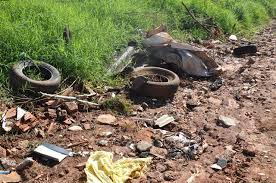tire: (9, 57, 64, 93), (129, 64, 180, 100)
